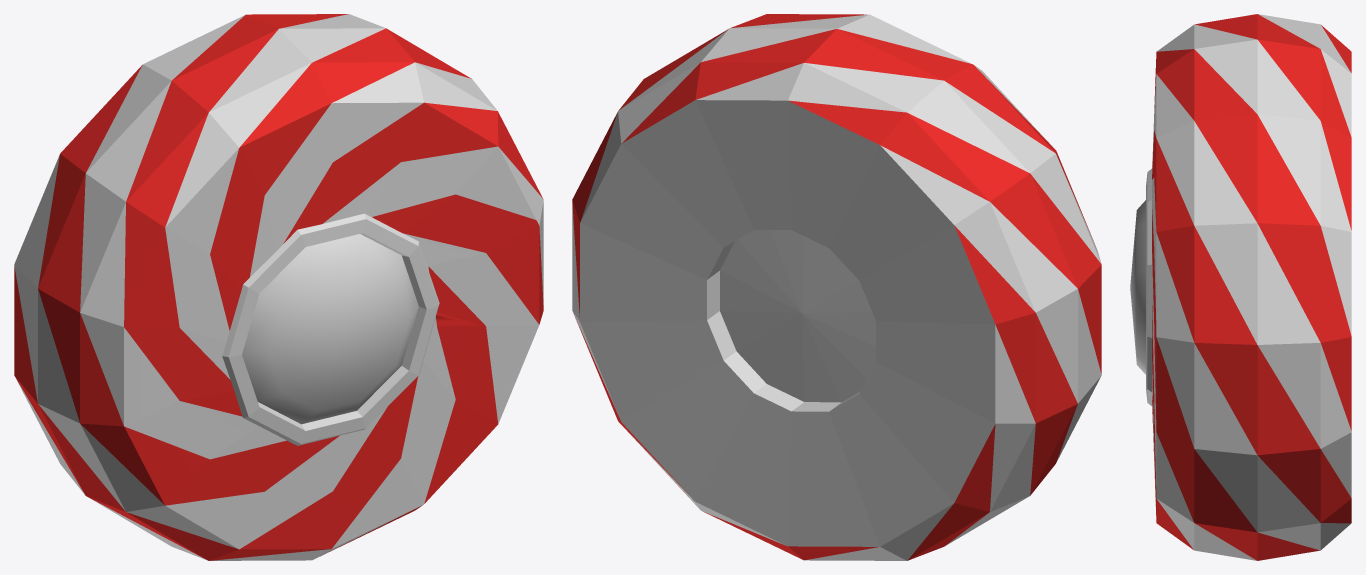
File: wheel17.fbx
3 views of the same model, side by side, from view 1: azimuth 30°, elevation 25°; view 2: azimuth 150°, elevation 25°; view 3: azimuth 270°, elevation 25° (orthographic). The views are drawn at different scales.
Parts seen in each view (by area): view 1: lanot_wheel16_L; view 2: lanot_wheel16_L; view 3: lanot_wheel16_L.
Boxes of the visible parts, bbox=[...] form: lanot_wheel16_L: bbox=[14, 14, 543, 560]; lanot_wheel16_L: bbox=[572, 14, 1101, 560]; lanot_wheel16_L: bbox=[1130, 14, 1351, 560].
Bounding box in the file's own units: 152 × 156 × 63.18.
